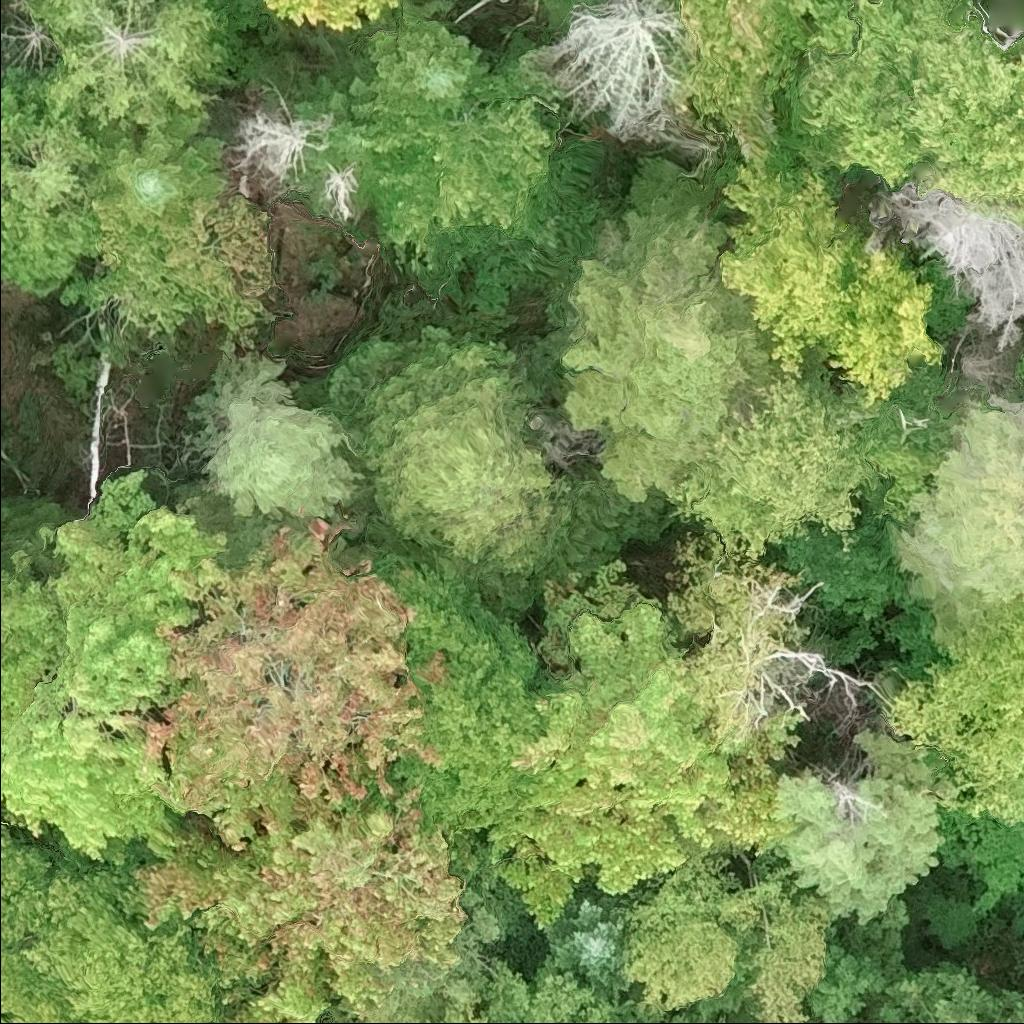crown: (114, 517, 449, 856), (486, 592, 800, 931), (0, 508, 225, 862), (143, 810, 470, 1023), (560, 206, 766, 502), (720, 159, 943, 406), (376, 557, 568, 843), (786, 0, 1023, 222), (363, 340, 571, 574), (0, 825, 230, 1023), (670, 378, 868, 559), (622, 858, 834, 1023), (366, 95, 557, 266), (63, 196, 276, 332), (192, 351, 361, 522), (667, 538, 812, 731), (893, 618, 1023, 825), (871, 180, 1023, 353), (27, 0, 232, 126), (776, 775, 945, 924), (903, 403, 1023, 612), (0, 69, 110, 296), (533, 0, 691, 144), (668, 0, 802, 152), (98, 104, 228, 227), (368, 21, 487, 117), (400, 972, 607, 1023), (872, 966, 1023, 1023), (237, 109, 332, 188), (553, 899, 635, 990), (268, 0, 397, 30), (325, 162, 356, 221), (719, 1018, 728, 1023), (1021, 359, 1023, 373)
